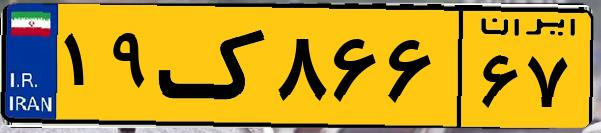1: (57, 26, 110, 100)
6: (385, 28, 445, 110), (330, 28, 385, 110), (475, 38, 525, 113)
7: (525, 38, 570, 115)
8: (270, 28, 330, 110)
9: (110, 28, 158, 98)
ک: (158, 12, 270, 120)
